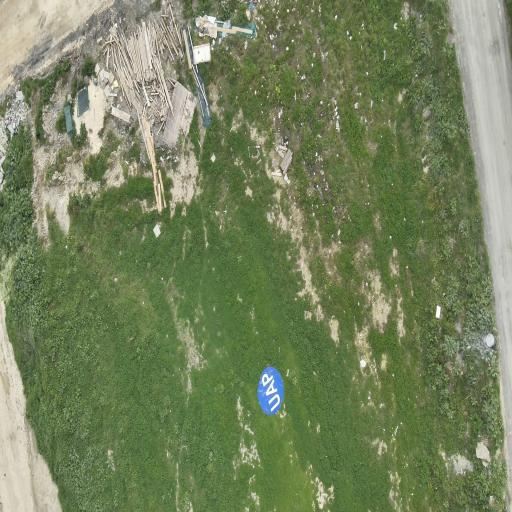UAP: (258, 367, 283, 414)
